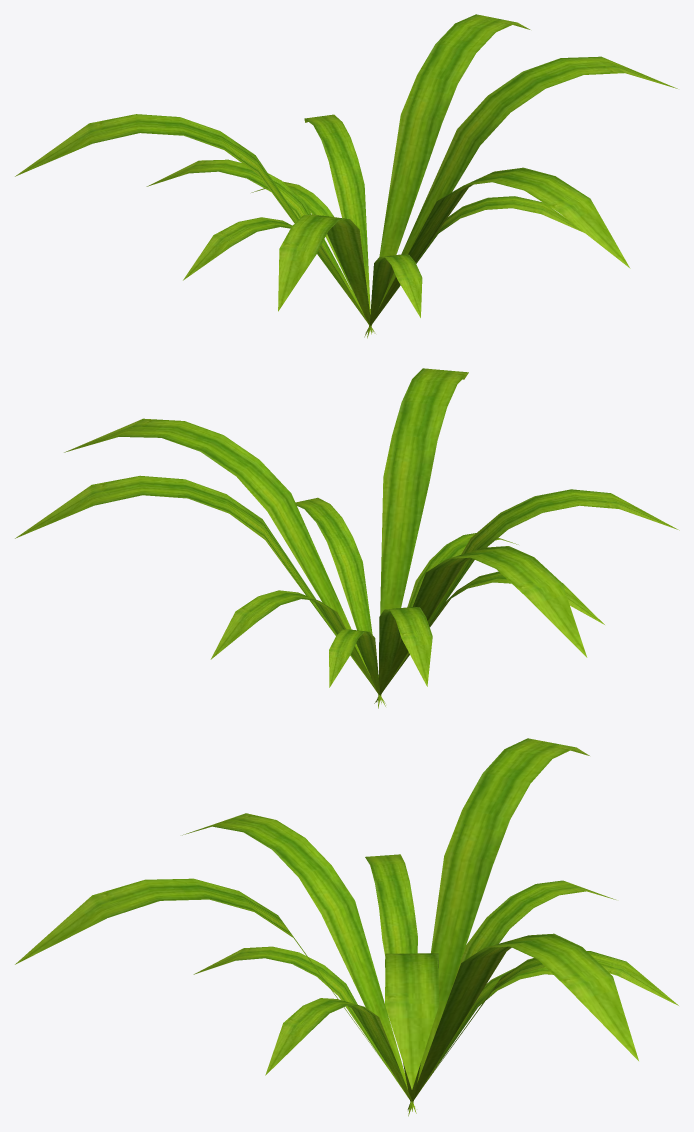
File: Grass.obj
3 views of the same model, one above another, from view 1: azimuth 30°, elevation 25°; view 2: azimuth 150°, elevation 25°; view 3: azimuth 270°, elevation 25° (orthographic). The views are drawn at different scales.
Visible parts, largest first — view 1: Plane.010; view 2: Plane.010; view 3: Plane.010.
Boxes of the visible parts, x1=… form: Plane.010: x1=15, y1=14, x2=677, y2=338; Plane.010: x1=15, y1=368, x2=679, y2=708; Plane.010: x1=15, y1=738, x2=678, y2=1116.
Bounding box in the file's own units: 31.06 × 11.14 × 26.16.
1 material, 1 textured.
